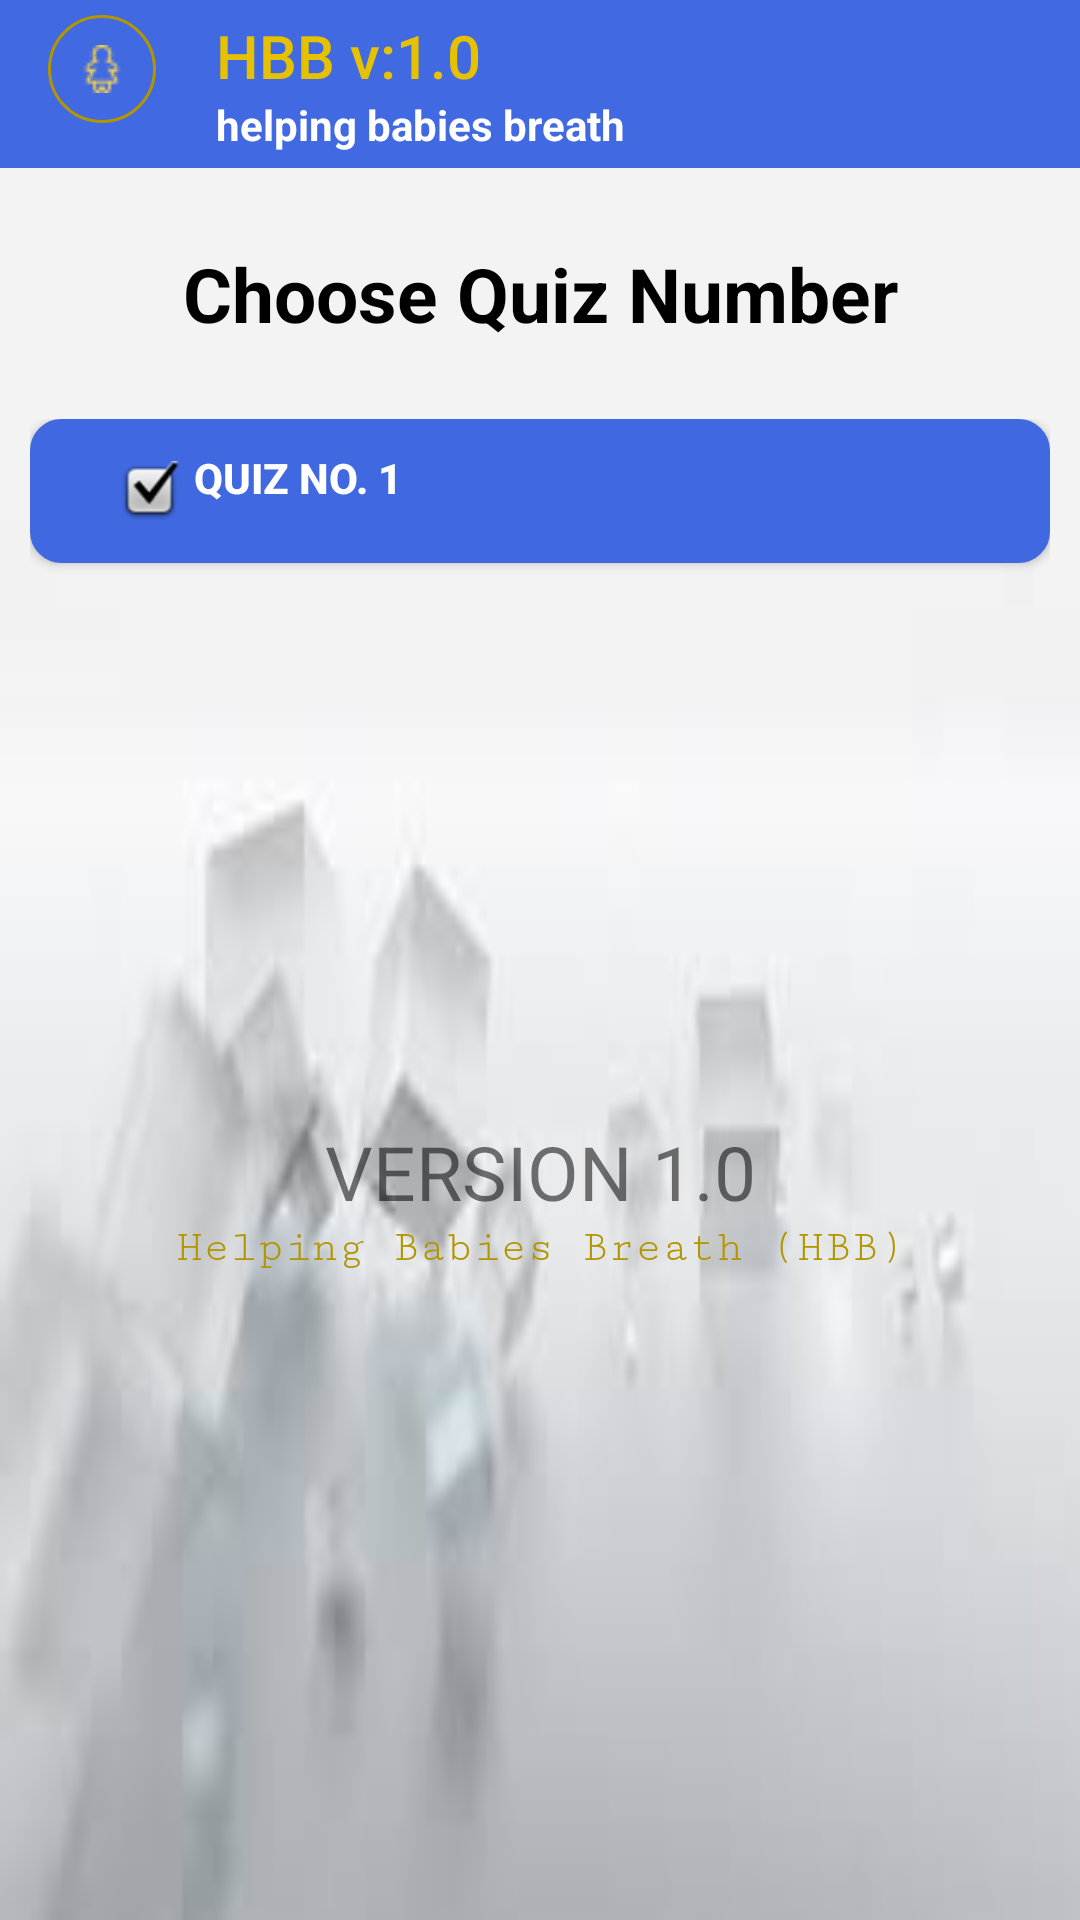

Named icons in this screenshot (1080 x 1920) and their bounding boxes, bbox(x1, y1, x2, y2):
babe girl: bbox(48, 15, 156, 123)
